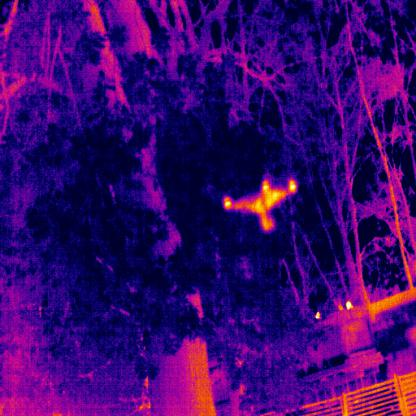drone: (223, 176, 296, 230)
